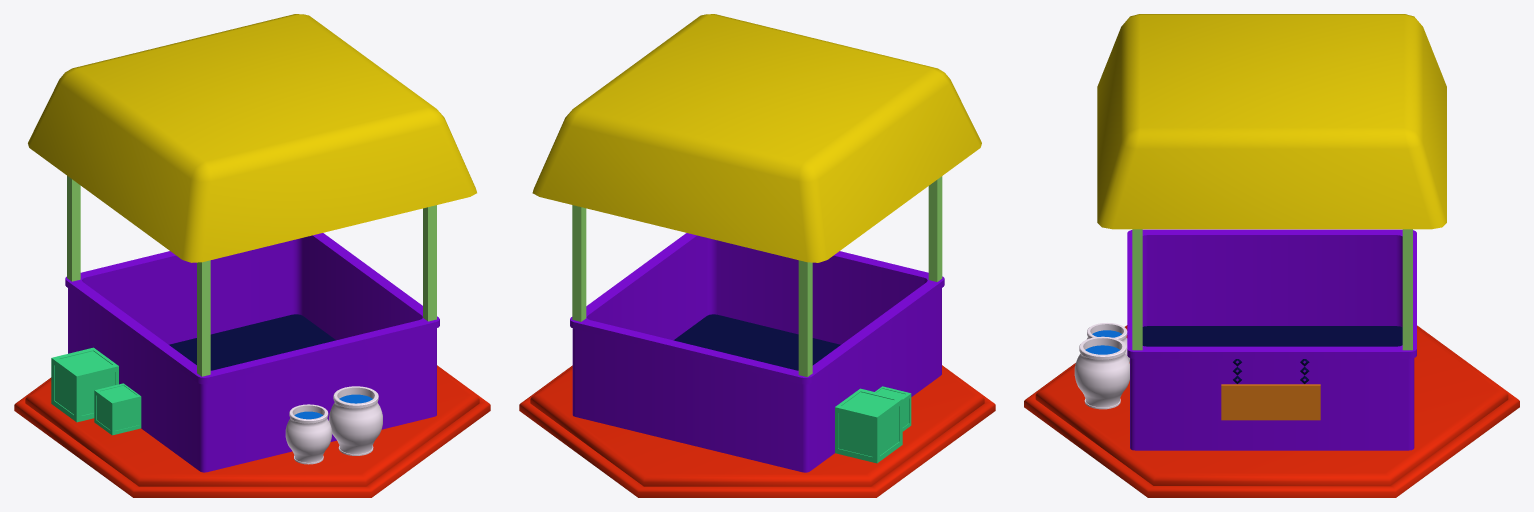
Rendered from ShopLvl1.fbx.
The picture shows the model from 3 angles, left to right: view 1: azimuth 30°, elevation 25°; view 2: azimuth 150°, elevation 25°; view 3: azimuth 270°, elevation 25°; orthographic projection. The views are drawn at different scales.
Parts seen in each view (by area): view 1: Plane, Cube, Base, Box, Flowerpot, Cube.001; view 2: Plane, Cube, Base, Cube.001, Box; view 3: Plane, Cube, Base, WoodSign, Flowerpot, Cube.001.
Part boxes in pixels (left/top/right/bottom): Plane: left=28, top=14, right=476, bottom=262; Cube: left=65, top=233, right=439, bottom=472; Base: left=14, top=365, right=490, bottom=497; Box: left=51, top=347, right=141, bottom=435; Flowerpot: left=285, top=386, right=382, bottom=464; Cube.001: left=67, top=176, right=436, bottom=376; Plane: left=532, top=14, right=981, bottom=262; Cube: left=570, top=233, right=944, bottom=472; Base: left=519, top=365, right=995, bottom=497; Cube.001: left=572, top=176, right=942, bottom=377; Box: left=835, top=386, right=911, bottom=463; Plane: left=1097, top=14, right=1446, bottom=229; Cube: left=1127, top=229, right=1416, bottom=450; Base: left=1024, top=325, right=1519, bottom=497; WoodSign: left=1221, top=359, right=1320, bottom=420; Flowerpot: left=1074, top=323, right=1129, bottom=409; Cube.001: left=1132, top=229, right=1412, bottom=350.
Bounding box in the file's own units: 327 × 282 × 377.
